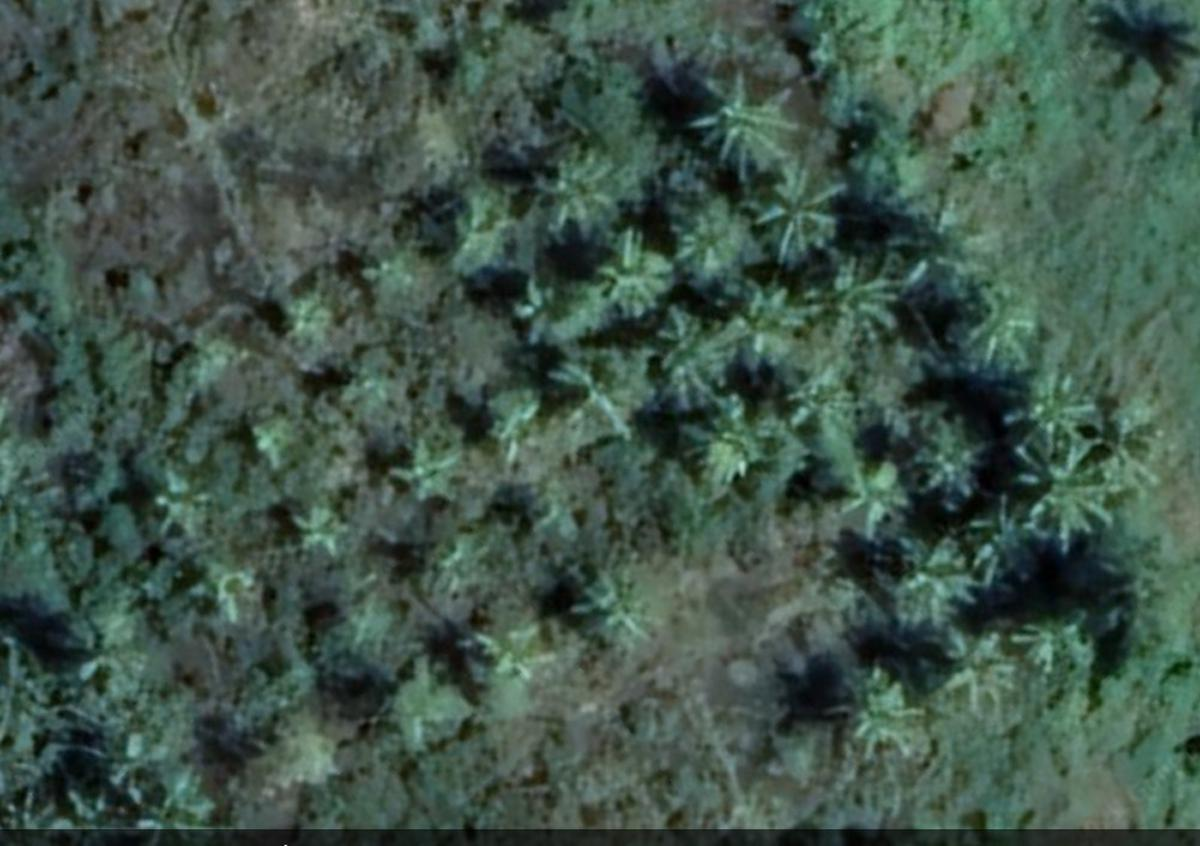coconut: (683, 77, 811, 176), (553, 341, 666, 452), (680, 406, 792, 506), (927, 282, 1040, 379), (671, 198, 774, 300), (1000, 378, 1107, 473), (1010, 455, 1119, 547), (739, 159, 836, 261), (804, 257, 905, 351), (565, 571, 670, 660), (588, 230, 685, 318), (834, 663, 925, 754), (531, 146, 624, 234), (906, 417, 992, 509), (719, 274, 811, 359), (1094, 402, 1167, 502), (931, 625, 1012, 714), (466, 618, 557, 696), (1023, 603, 1108, 685), (899, 524, 975, 615), (493, 270, 593, 336), (183, 546, 261, 625), (380, 438, 461, 514), (839, 462, 912, 536)
